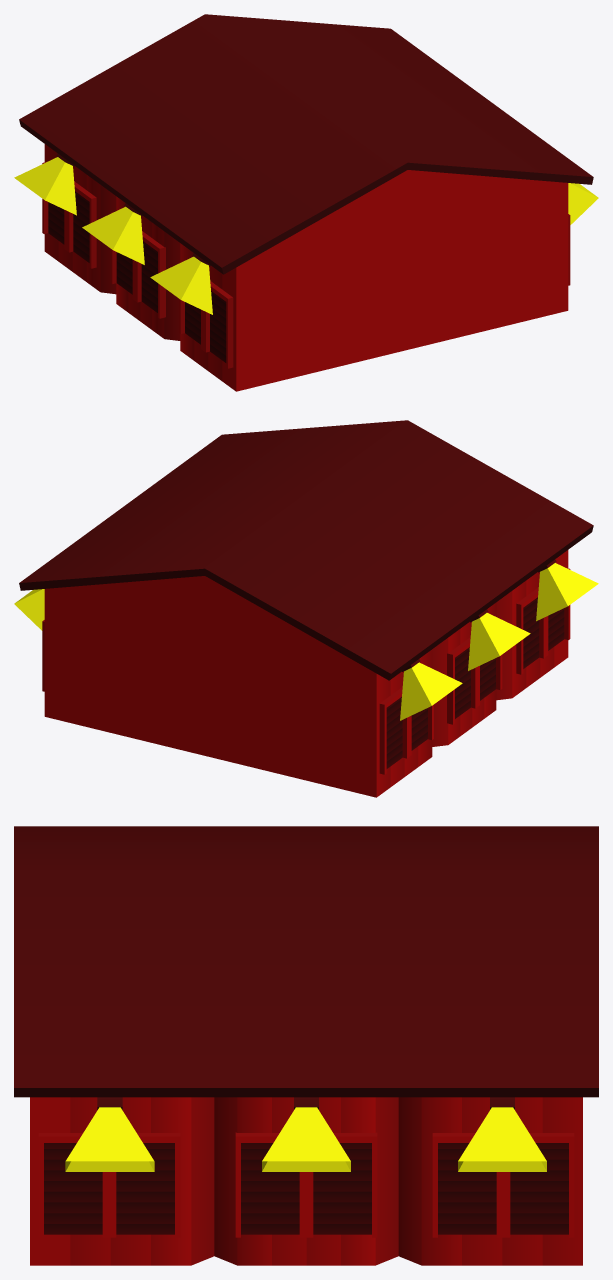
Rendered from buildings-industrial-storagefacility_v1.fbx.
3 views of the same model, one above another, from view 1: azimuth 30°, elevation 25°; view 2: azimuth 150°, elevation 25°; view 3: azimuth 270°, elevation 25° (orthographic). The views are drawn at different scales.
Parts seen in each view (by area): view 1: StorageFacility_base, StorageFacility_light; view 2: StorageFacility_base, StorageFacility_light; view 3: StorageFacility_base, StorageFacility_light.
Boxes of the visible parts, x1,y1,x2,y2 form: StorageFacility_base: (19, 14, 593, 391); StorageFacility_light: (14, 157, 598, 314); StorageFacility_base: (19, 420, 593, 797); StorageFacility_light: (14, 563, 598, 720); StorageFacility_base: (14, 826, 598, 1265); StorageFacility_light: (65, 1107, 546, 1171).
Size of the model in its own units: 29.39 by 12.94 by 24.7.
